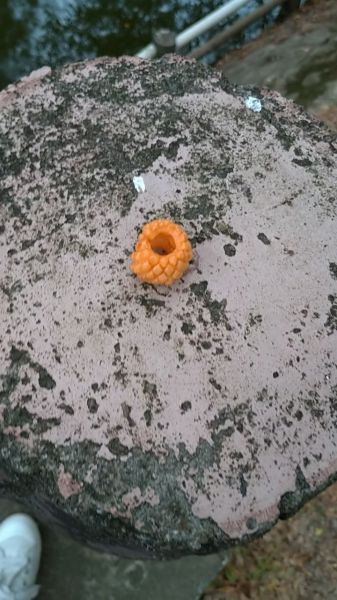eggs: (124, 214, 192, 291)
